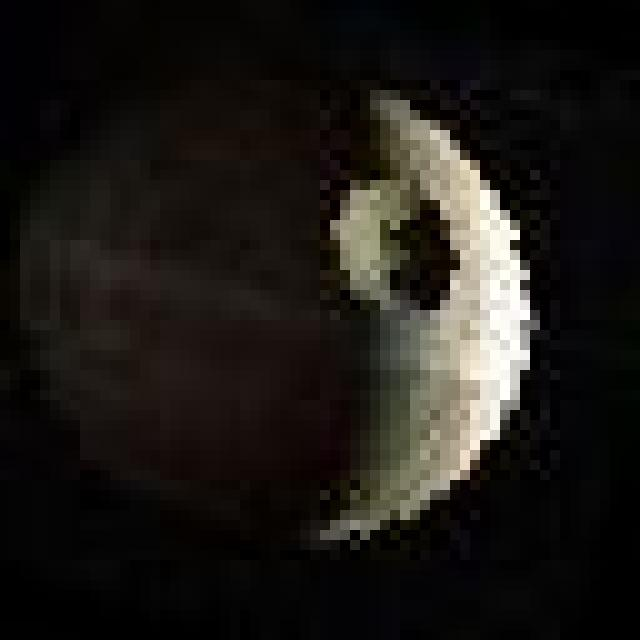Death Star: (0, 50, 550, 560)
